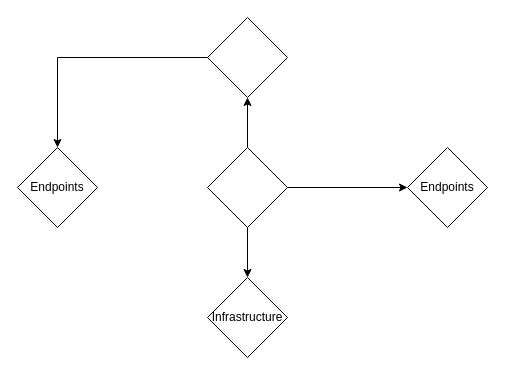
Some shapes in this 505 by 375 pixel diagram are drawn without their labels. Each missing label, with the box of its shape:
Application: (206, 16, 288, 98)
Domain: (206, 146, 288, 228)
